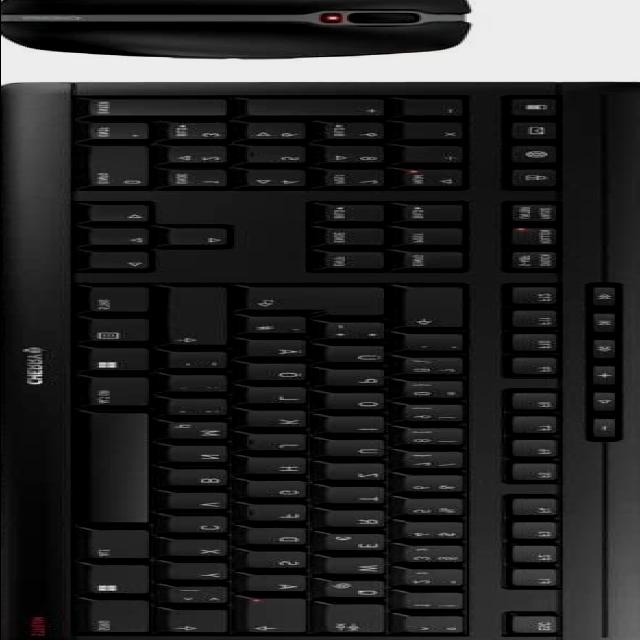0: (401, 382, 473, 401)
1: (401, 594, 471, 612)
2: (403, 570, 473, 589)
3: (401, 546, 473, 566)
4: (403, 523, 473, 542)
5: (403, 499, 473, 519)
6: (401, 475, 473, 495)
7: (403, 451, 473, 471)
8: (401, 428, 473, 448)
9: (403, 405, 473, 424)
a: (246, 576, 314, 594)
accent: (403, 335, 471, 353)
ae: (246, 341, 314, 359)
alt-left: (87, 531, 157, 561)
altgr-right: (83, 376, 153, 408)
b: (170, 470, 236, 489)
c: (170, 517, 236, 535)
caret: (403, 617, 473, 636)
comma: (170, 400, 236, 418)
d: (246, 529, 314, 547)
del: (403, 288, 475, 330)
e: (327, 535, 395, 553)
enter: (242, 288, 394, 318)
f: (248, 505, 314, 523)
g: (251, 482, 314, 500)
h: (251, 459, 314, 477)
hash: (246, 318, 314, 336)
i: (329, 418, 390, 435)
j: (248, 435, 314, 453)
k: (248, 412, 314, 430)
keyboard: (0, 81, 640, 640)
l: (248, 388, 314, 406)
less: (168, 587, 236, 607)
m: (168, 423, 236, 441)
minus: (168, 353, 236, 372)
n: (170, 447, 236, 465)
o: (329, 395, 392, 413)
oe: (248, 365, 314, 383)
p: (329, 371, 392, 389)
plus: (327, 324, 395, 342)
point: (170, 377, 233, 395)
q: (324, 582, 394, 601)
r: (329, 511, 392, 529)
s: (246, 553, 314, 571)
shift-left: (168, 611, 234, 635)
shift-lock: (248, 600, 316, 635)
shift-right: (172, 289, 233, 347)
space: (89, 415, 155, 525)
ss: (401, 359, 473, 378)
strg-left: (85, 601, 159, 636)
strg-right: (87, 287, 157, 315)
t: (329, 489, 392, 506)
tab: (326, 606, 392, 636)
u: (326, 441, 392, 459)
ue: (326, 347, 392, 365)
v: (170, 495, 233, 512)
w: (329, 559, 395, 577)
x: (170, 541, 233, 559)
y: (170, 564, 233, 582)
z: (329, 464, 392, 482)
